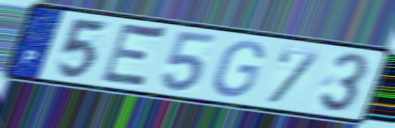3: (312, 51, 375, 115)
5: (50, 16, 113, 81), (159, 30, 221, 95)
7: (266, 42, 325, 106)
E: (96, 19, 171, 93)
G: (210, 39, 267, 99)
